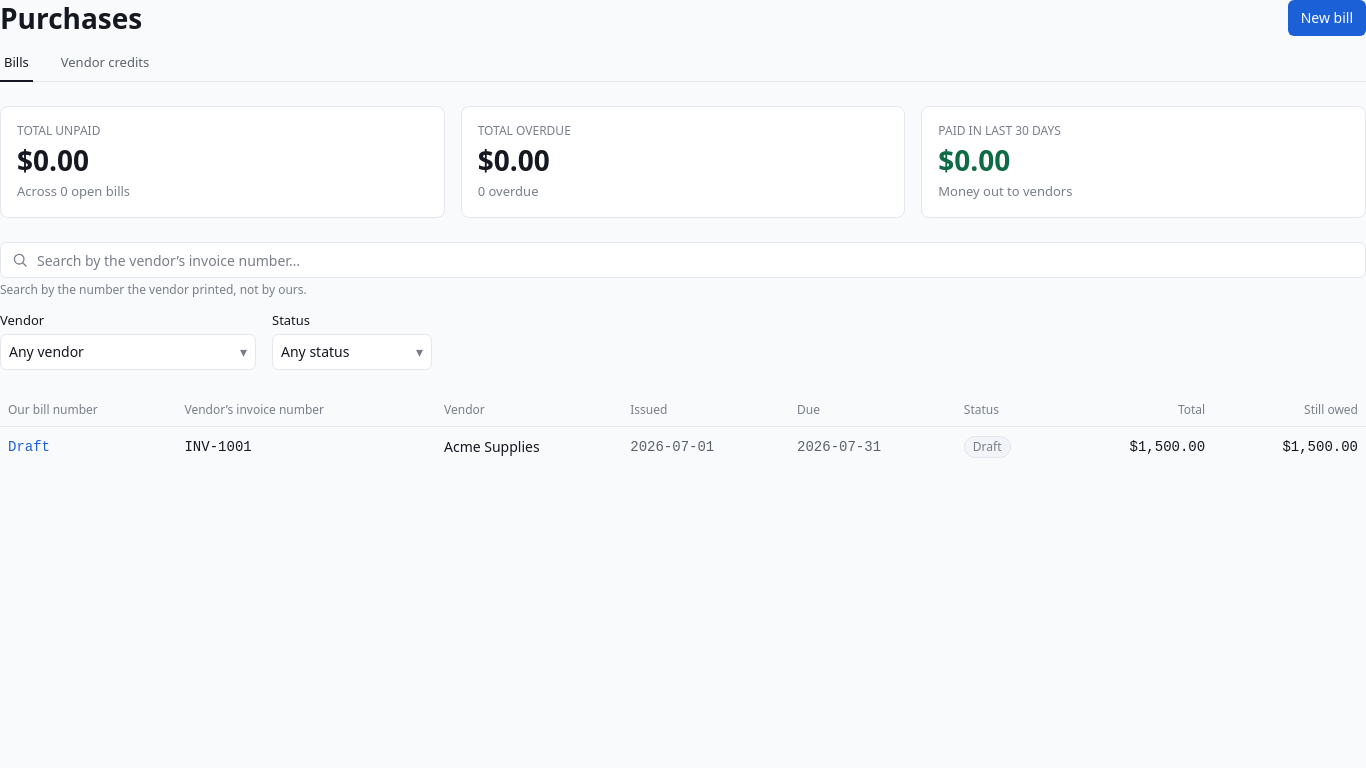
Test case: a vendor credit › is its own document, with its own number series and no due date
Click the button "Vendor credits": (105, 67) [57,52,153,82]
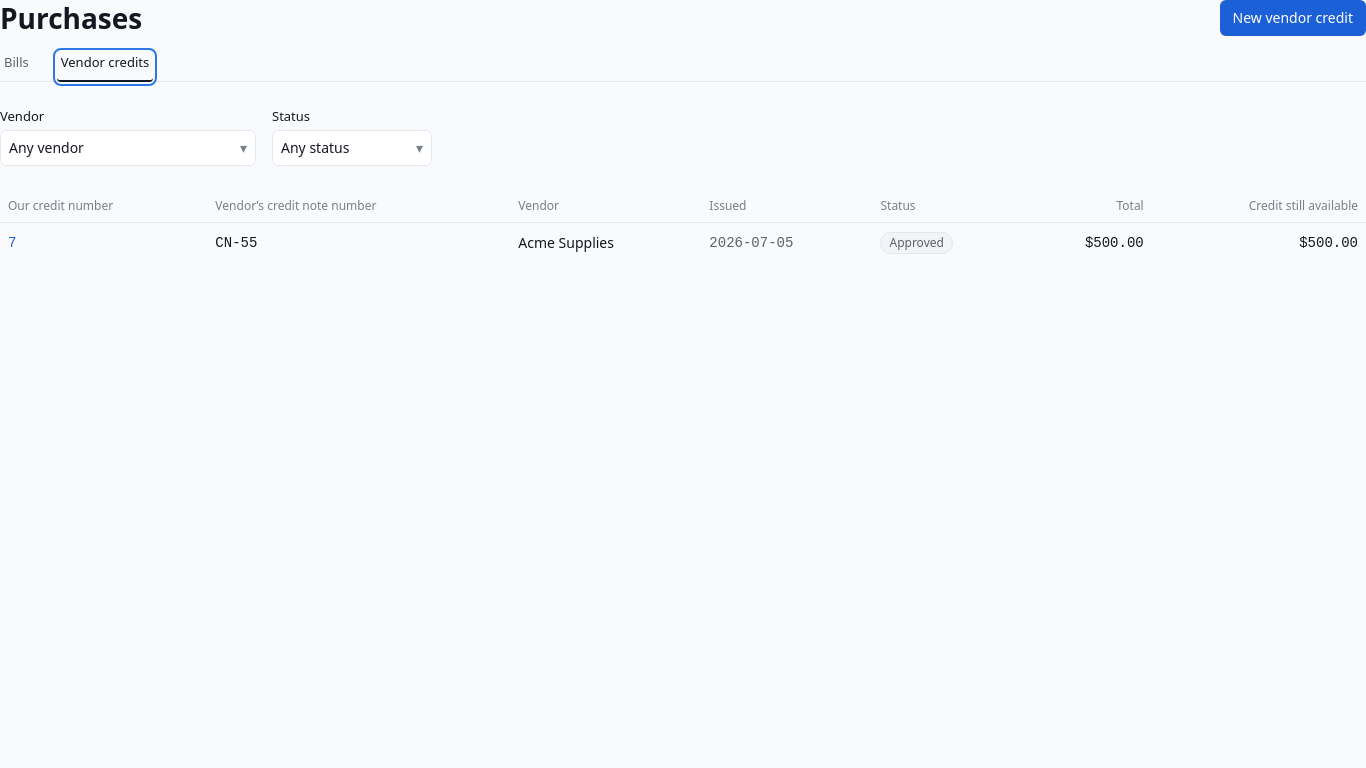
Click the button "7": (12, 243) [8,232,16,254]
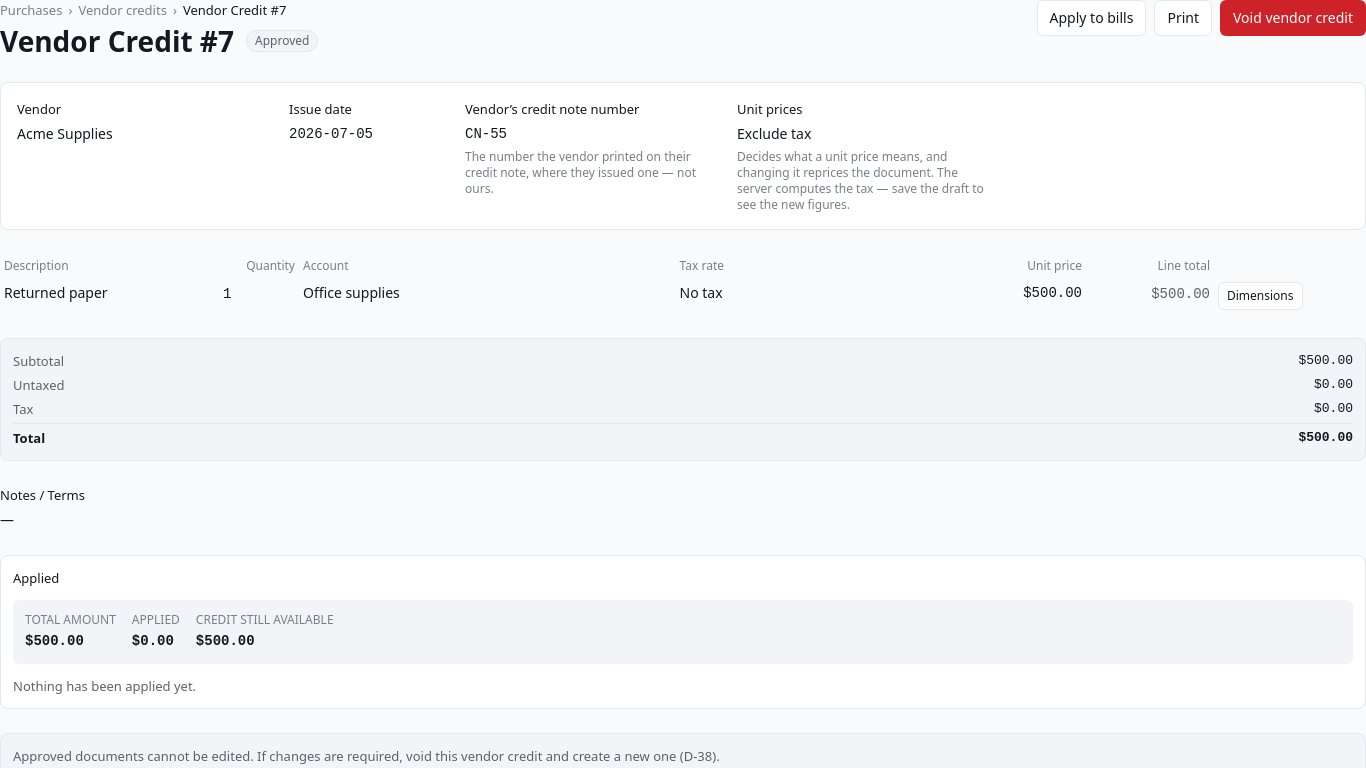
Check: the text "Credit still available" is shown, box [196,612,334,628]
Check: the heading "vendor credit #7" is shown, box [0,24,234,58]
